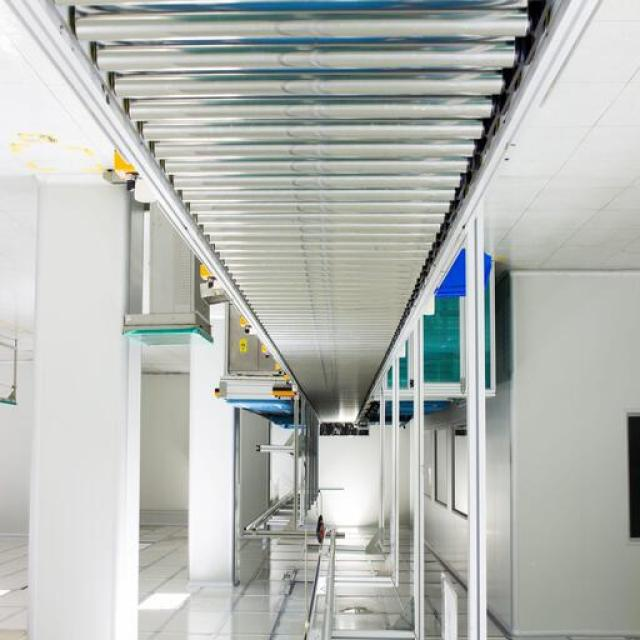conveyor: (22, 2, 587, 422)
